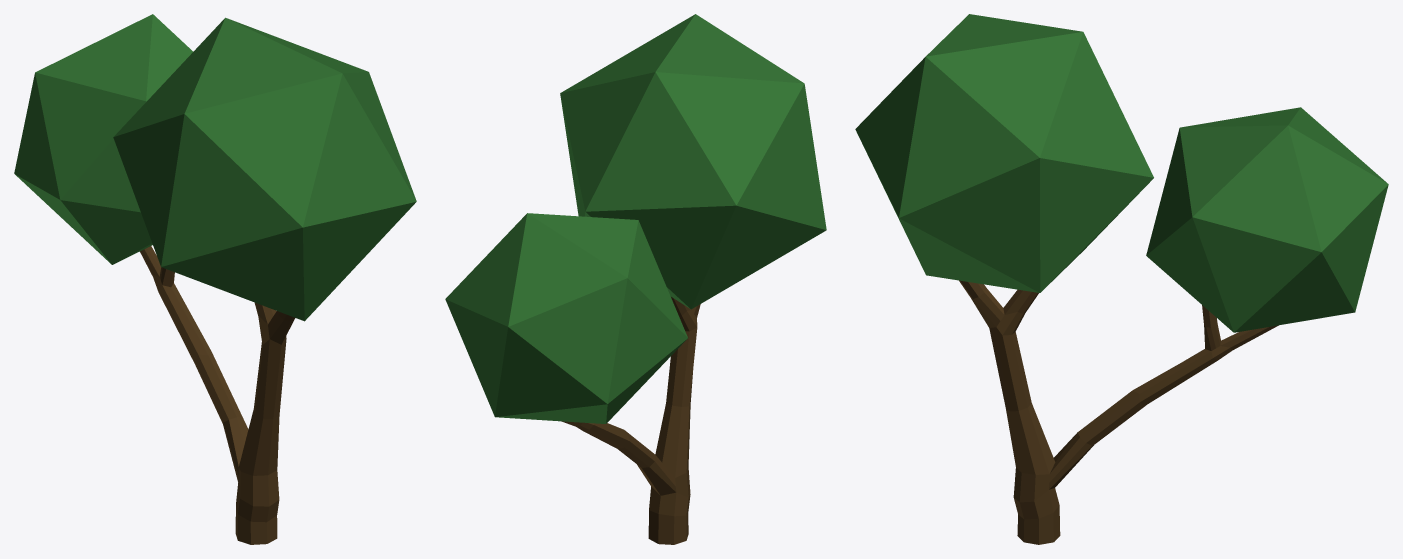
Rendered from Tree04.fbx.
3 renders of one model, left to right at view 1: azimuth 30°, elevation 25°; view 2: azimuth 150°, elevation 25°; view 3: azimuth 270°, elevation 25°, orthographic. The views are drawn at different scales.
Visible parts, largest first — view 1: Tree04; view 2: Tree04; view 3: Tree04.
Part boxes in pixels (x1,y1,x2,y2): Tree04: (14,14,416,544); Tree04: (445,14,826,544); Tree04: (855,14,1388,544).
Size of the model in its own units: 8.3 by 16.44 by 15.9.
